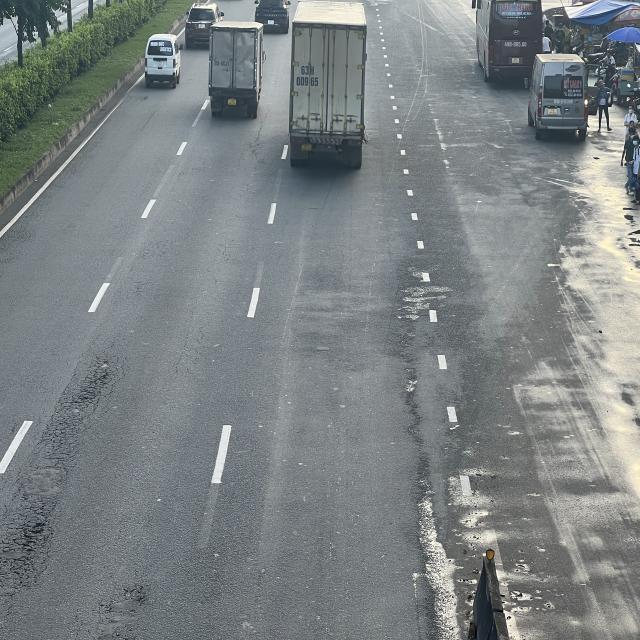coach: (472, 0, 543, 82)
truck: (289, 2, 367, 168), (206, 22, 264, 118)
van: (529, 52, 589, 139), (146, 35, 183, 87)
